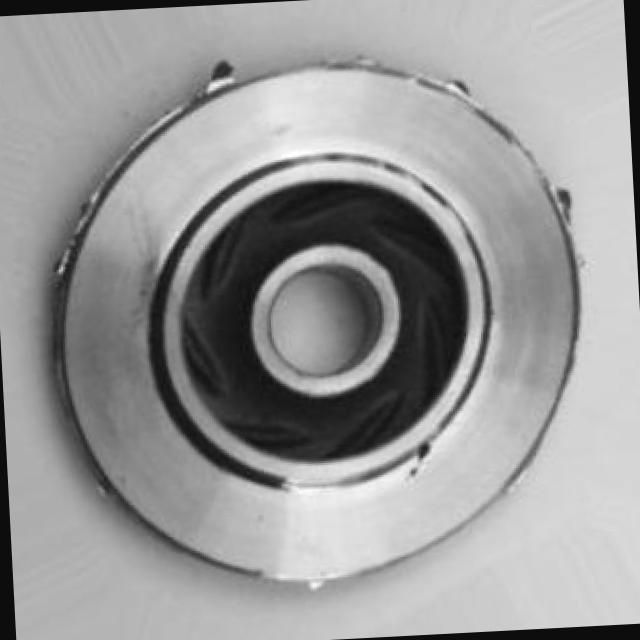Defect: (198, 56, 243, 90)
